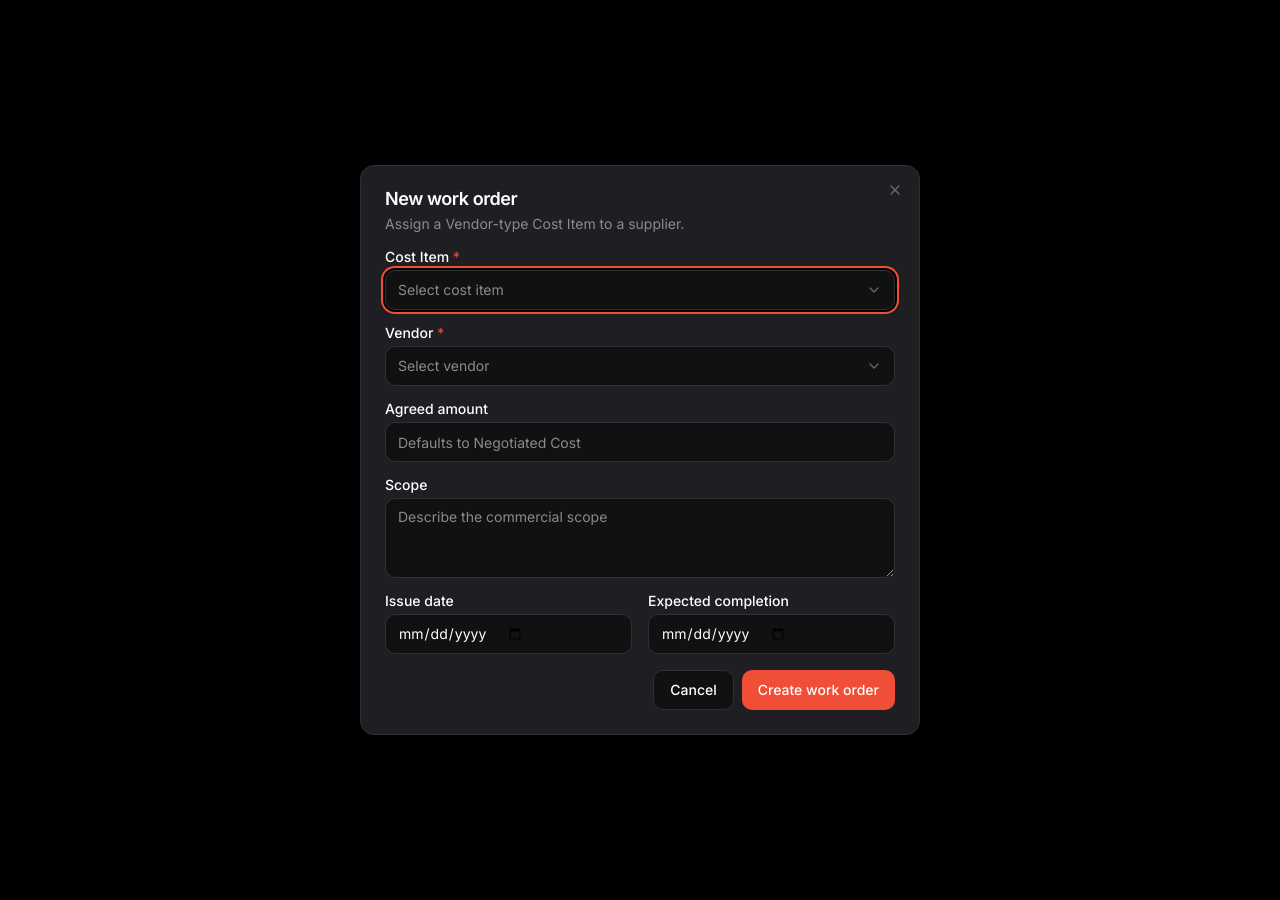
vendor work orders feature › shows validation when cost item and vendor are missing
The width and height of the screenshot is (1280, 900).
Click the button "Create work order". click: (818, 690)
box: [742, 670, 895, 710]
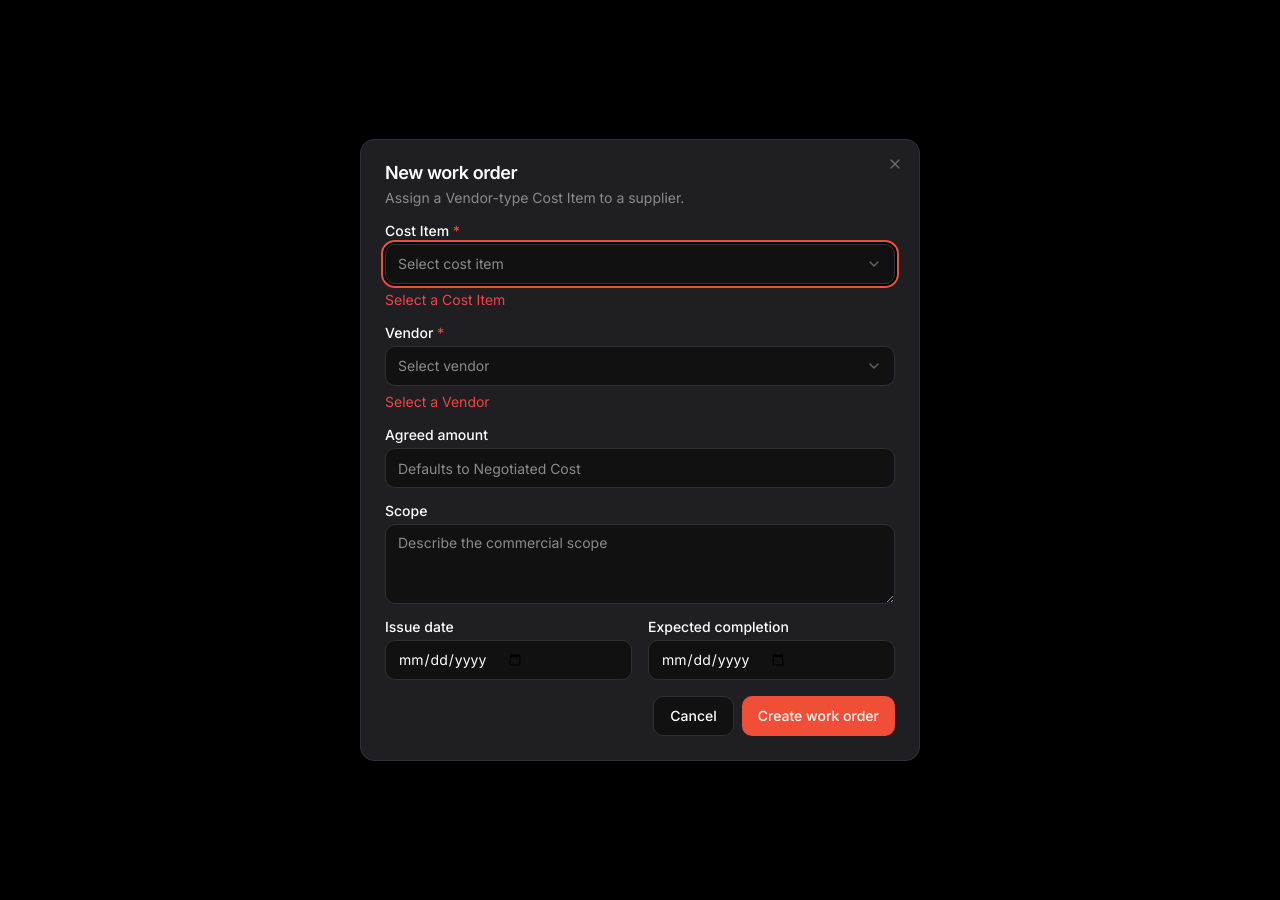
expect the text "Select a Cost Item" is shown: met, box [385, 291, 505, 308]
